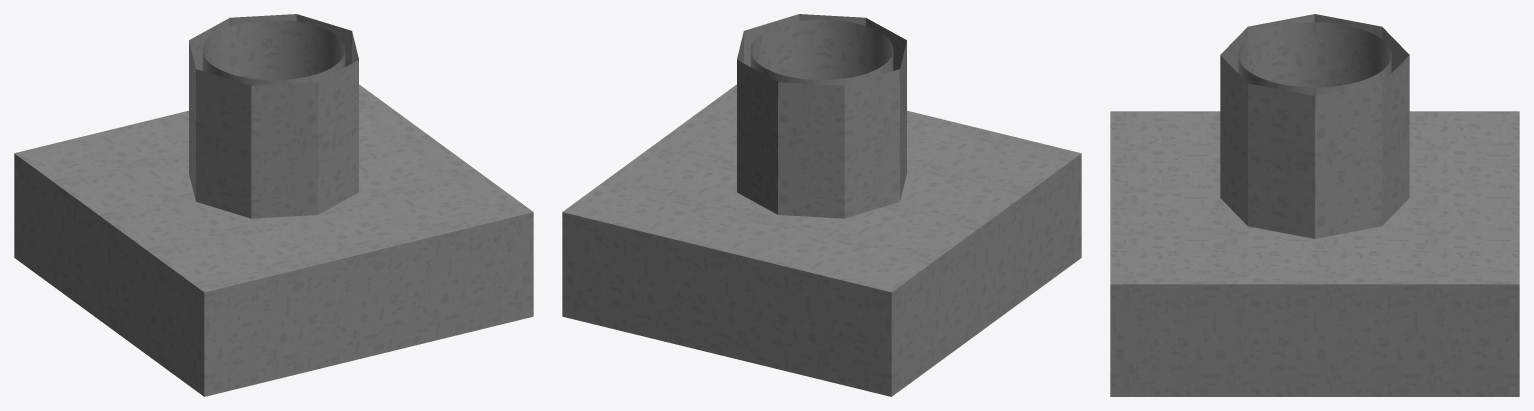
Rendered from Center_Dome.FBX.
The picture shows the model from 3 angles, left to right: view 1: azimuth 30°, elevation 25°; view 2: azimuth 150°, elevation 25°; view 3: azimuth 270°, elevation 25°; orthographic projection. The views are drawn at different scales.
Visible parts, largest first — view 1: Center_Dome_LOD0; view 2: Center_Dome_LOD0; view 3: Center_Dome_LOD0.
Part boxes in pixels (bbox=[...]): Center_Dome_LOD0: bbox=[14, 14, 533, 396]; Center_Dome_LOD0: bbox=[562, 14, 1081, 396]; Center_Dome_LOD0: bbox=[1110, 14, 1519, 396].
Size of what is drawn, in the model's own units: 1375 by 947 by 1375.
